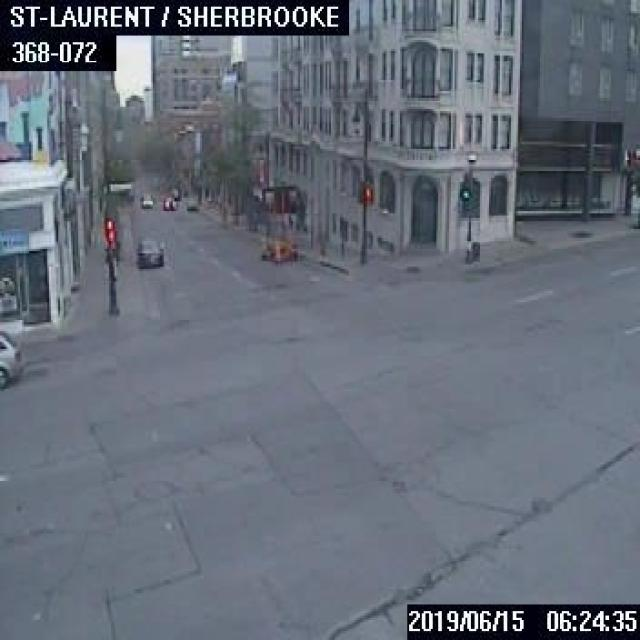construction: (258, 185, 296, 262)
vehicle: (0, 331, 22, 387), (134, 236, 162, 264), (138, 192, 153, 206), (160, 195, 175, 209)
